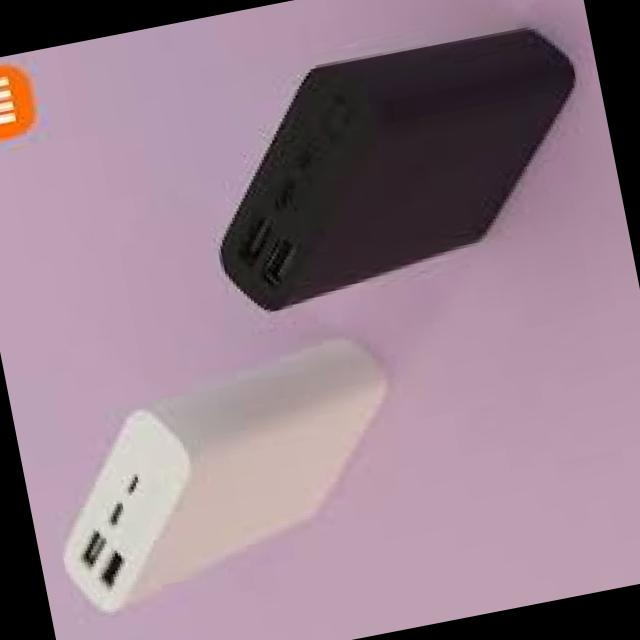power_bank: (180, 14, 610, 316), (21, 318, 431, 620)
